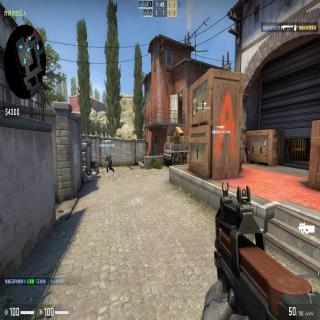CT-Body: (104, 152, 115, 173)
CT-Head: (105, 152, 108, 156)
